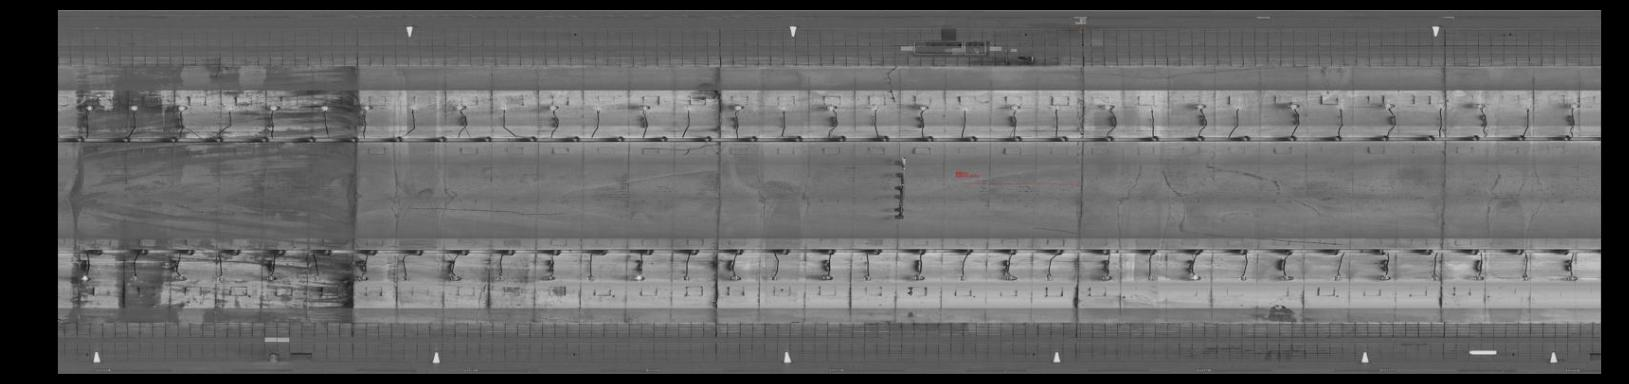light: (996, 270, 1018, 285), (173, 99, 193, 115), (1383, 98, 1401, 114), (1192, 99, 1210, 114), (452, 101, 473, 114), (351, 271, 372, 284), (1287, 98, 1305, 113), (1144, 101, 1163, 115), (952, 271, 970, 285), (1047, 101, 1067, 114), (265, 101, 285, 114), (77, 271, 97, 284), (908, 272, 931, 283), (261, 272, 282, 284), (1184, 271, 1205, 283), (220, 101, 238, 115), (1007, 101, 1029, 112), (915, 101, 935, 113), (729, 101, 749, 113), (443, 272, 462, 284), (1474, 99, 1491, 113), (543, 100, 560, 114), (126, 100, 142, 114), (1038, 270, 1054, 284), (1333, 100, 1351, 113), (541, 271, 559, 284), (124, 272, 146, 282), (1103, 101, 1122, 113), (857, 272, 876, 284), (1434, 101, 1449, 115), (959, 101, 974, 115), (678, 271, 695, 284), (406, 100, 424, 112), (213, 272, 231, 284), (1564, 272, 1581, 284), (170, 271, 189, 282), (1278, 272, 1297, 283), (1428, 270, 1443, 284), (360, 101, 376, 114), (81, 101, 97, 114), (680, 101, 697, 113), (1517, 272, 1533, 284), (823, 102, 843, 112), (1328, 272, 1347, 282), (1234, 271, 1252, 282), (1520, 101, 1534, 114), (1232, 101, 1248, 113), (498, 101, 513, 113), (819, 272, 837, 282), (1567, 101, 1583, 112), (308, 273, 324, 284), (582, 272, 598, 283), (1377, 272, 1393, 283), (1471, 272, 1488, 283), (317, 103, 335, 113), (493, 272, 507, 285), (396, 274, 415, 283), (631, 273, 647, 283), (1099, 272, 1116, 282), (1141, 273, 1158, 282), (637, 101, 652, 111), (590, 104, 606, 114), (870, 101, 882, 113), (766, 275, 782, 284), (778, 103, 792, 114), (729, 272, 744, 282)
